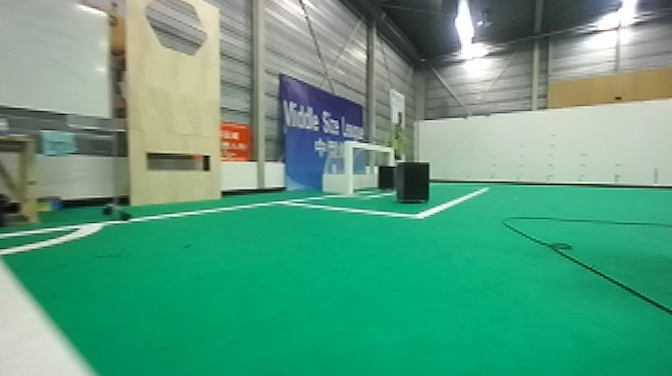goalpost: (344, 142, 354, 196), (387, 148, 394, 166)
